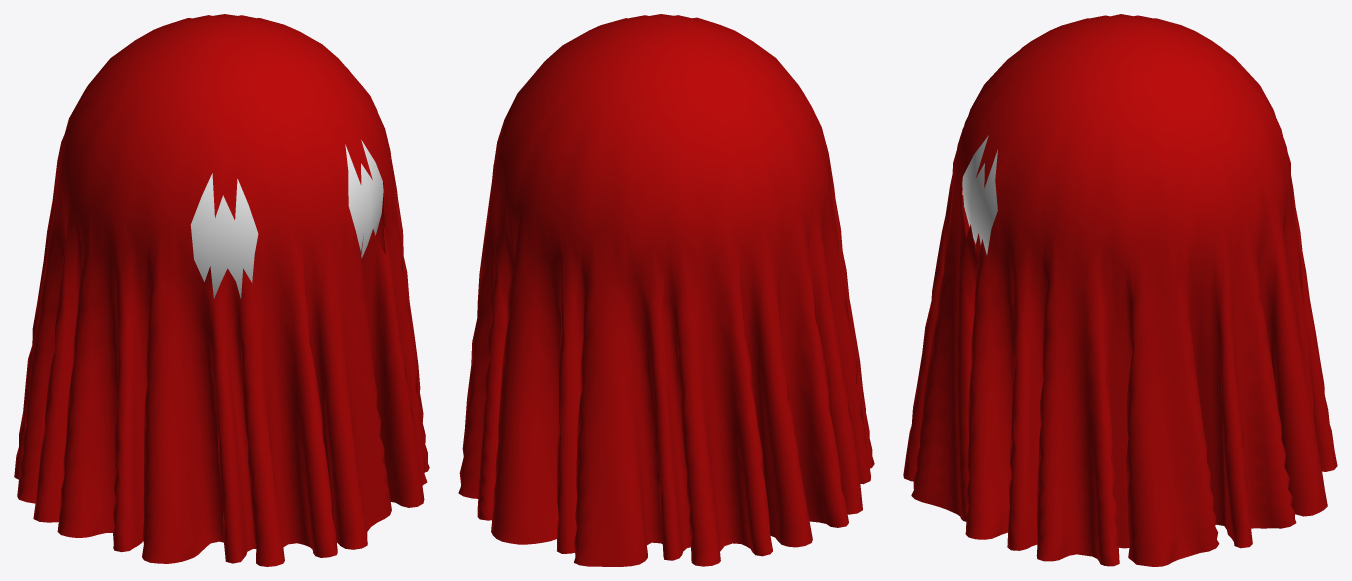
The model's file is Ghost_test.fbx.
3 renders of one model, left to right at view 1: azimuth 30°, elevation 25°; view 2: azimuth 150°, elevation 25°; view 3: azimuth 270°, elevation 25°, orthographic.
Visible parts, largest first — view 1: GhostCloth, GhostBody; view 2: GhostCloth; view 3: GhostCloth, GhostBody.
Boxes of the visible parts, box(x1,y1,x2,y2) form: GhostCloth: box(14, 14, 429, 566); GhostBody: box(190, 140, 383, 298); GhostCloth: box(458, 14, 874, 566); GhostCloth: box(903, 14, 1337, 566); GhostBody: box(962, 135, 997, 254).
Size of the model in its own units: 1.32 by 1.57 by 1.36.
